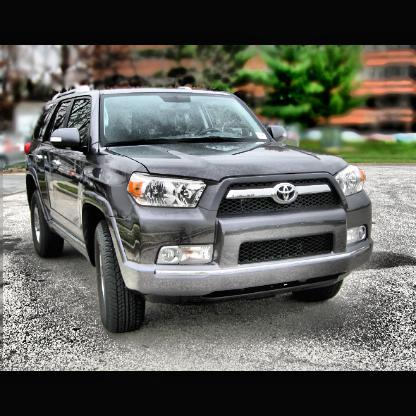Toyota 4Runner SUV 2012: (24, 84, 375, 337)
